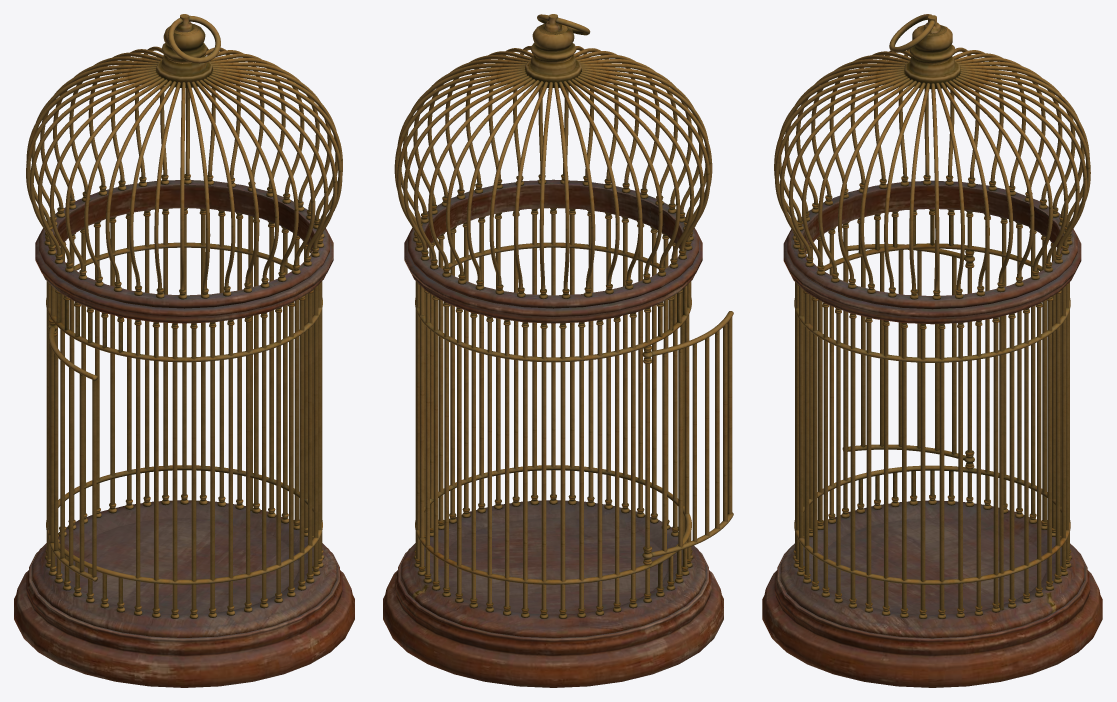
The model's file is obj_birdcage_freepoly_org_7b2ad0.glb.
3 renders of one model, left to right at view 1: azimuth 30°, elevation 25°; view 2: azimuth 150°, elevation 25°; view 3: azimuth 270°, elevation 25°, orthographic.
Visible parts, largest first — view 1: obj_birdcage_freepoly_org_7b2ad0; view 2: obj_birdcage_freepoly_org_7b2ad0; view 3: obj_birdcage_freepoly_org_7b2ad0.
Boxes of the visible parts, x1,y1,x2,y2 form: obj_birdcage_freepoly_org_7b2ad0: (14, 14, 354, 687); obj_birdcage_freepoly_org_7b2ad0: (383, 14, 733, 687); obj_birdcage_freepoly_org_7b2ad0: (762, 14, 1102, 687).
Bounding box in the file's own units: 0.2585 × 0.5 × 0.2571.
Materials: 1 (1 with a texture image).
